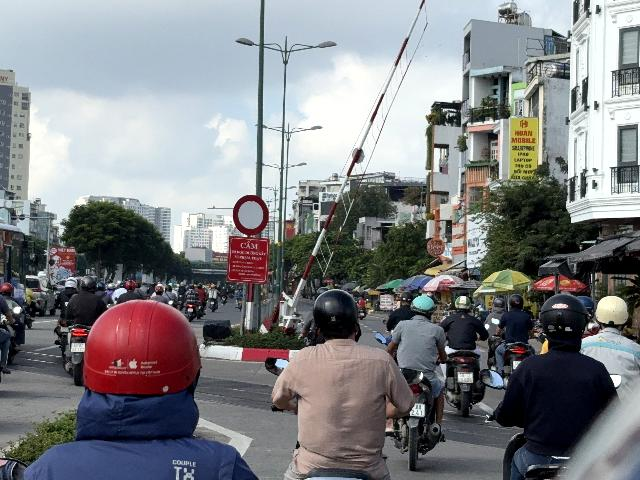duong-cam: (233, 194, 269, 236)
